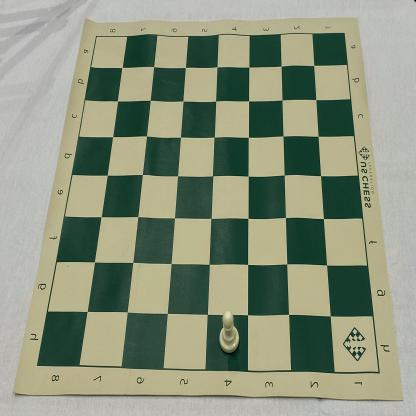white-pawn: (219, 310, 240, 354)
